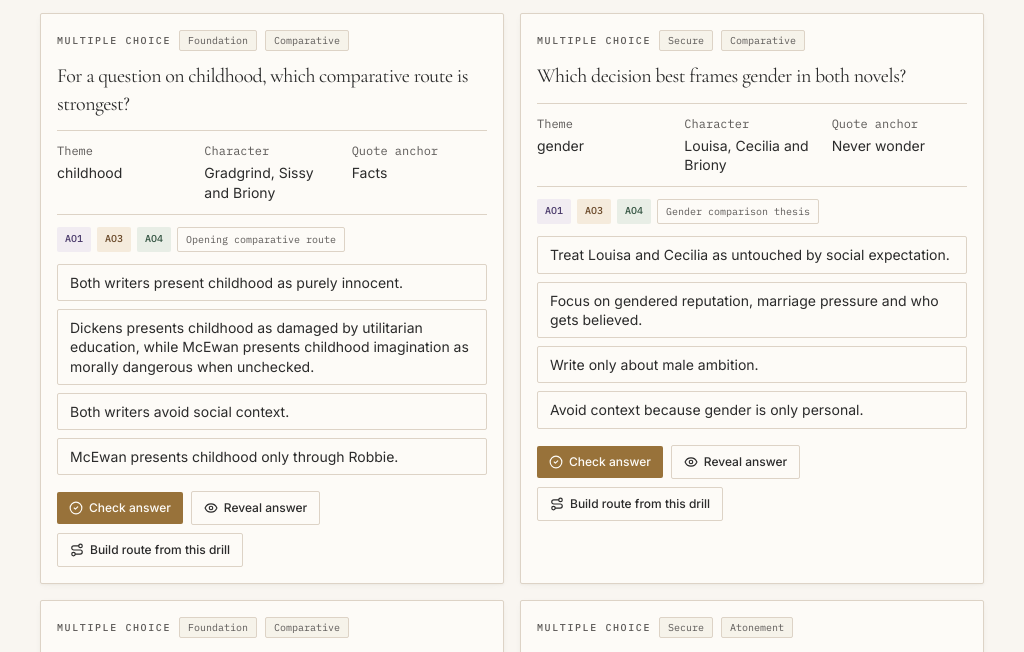
RapidRecall › checks a multiple-choice answer and reveals a short explanation
(page scrolled)
Click the button "Dickens presents childhood as damaged by utilitarian education".
click(272, 347)  # box 57,309 -> 487,385
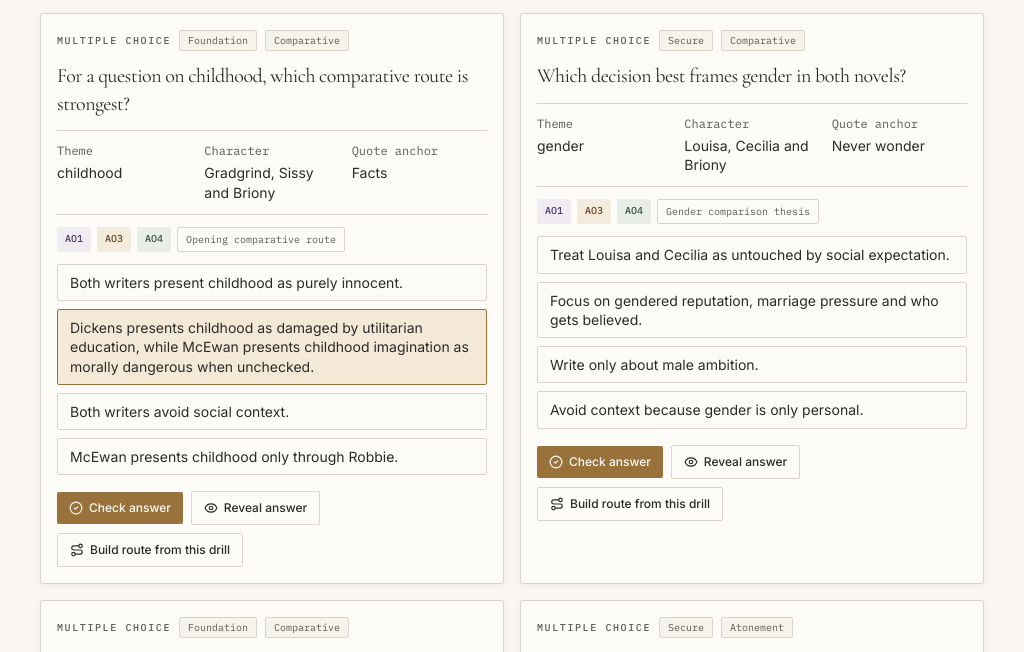
Click the button with aria-label "Check answer for For a question on childhood".
click(120, 508)  # box 57,492 -> 183,524
(page scrolled)
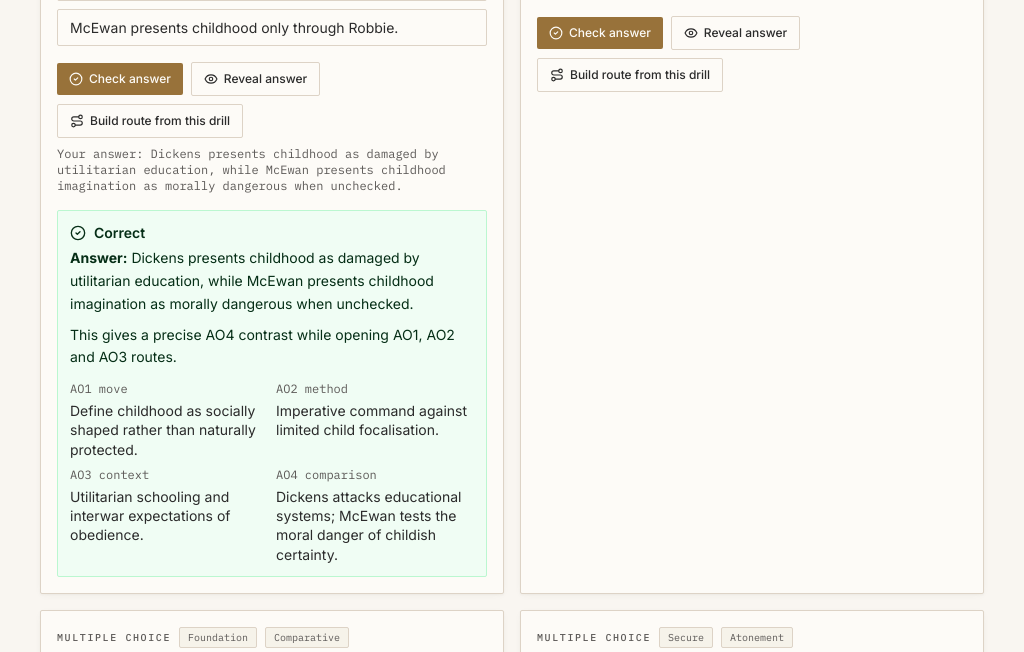
Expected: the message shows "Correct", 94,224 -> 145,241
Expected: the text "This gives a precise AO4 contrast" is shown, 70,326 -> 455,365
